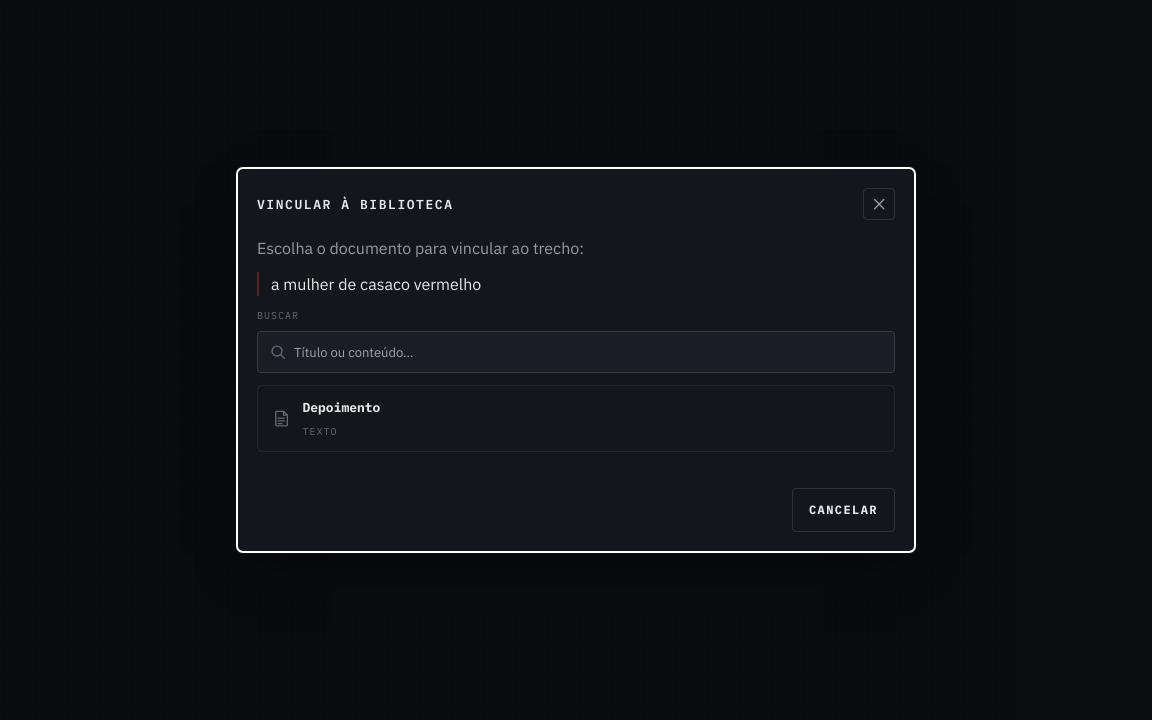
Scenario: CadernoVinculoBiblioteca › não cria vínculo quando o documento foi ocultado entre lista e escolha
Click the button "Depoimento Texto" at x=341, y=408, box 257,385 -> 895,452
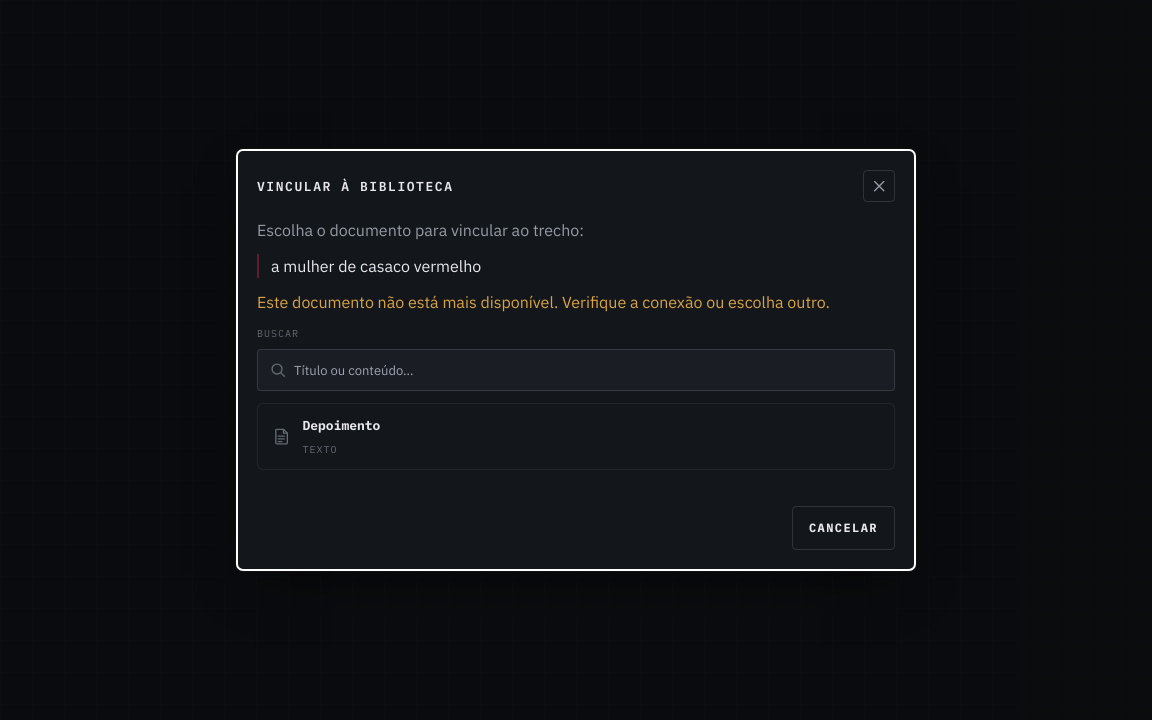
Result: the text "não está mais disponível" is shown at 257,292 -> 830,312
